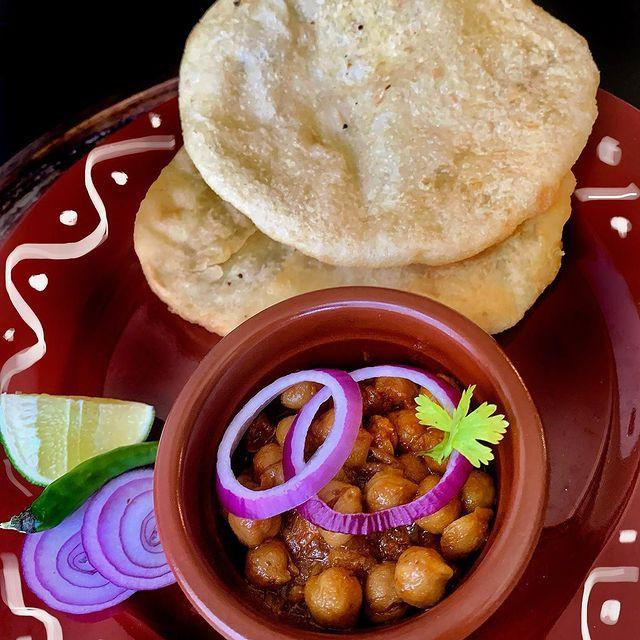Chole: (254, 362, 482, 628)
